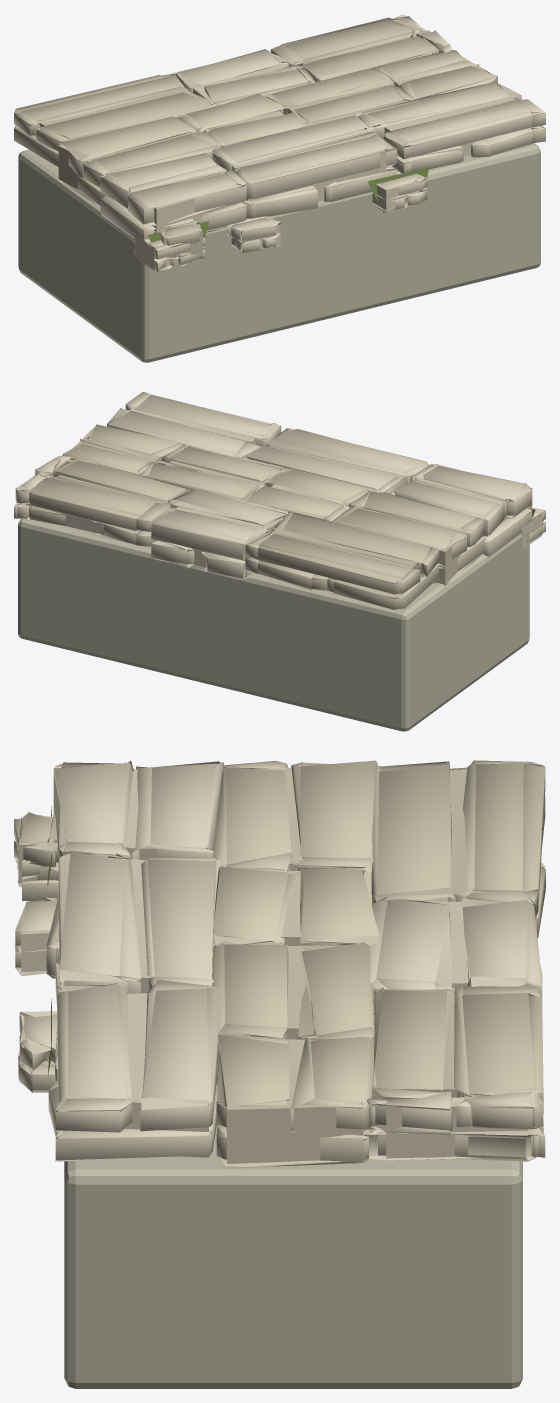
File: bridge-04.glb
3 views of the same model, one above another, from view 1: azimuth 30°, elevation 25°; view 2: azimuth 150°, elevation 25°; view 3: azimuth 270°, elevation 25° (orthographic). The views are drawn at different scales.
Parts seen in each view (by area): view 1: Continuous arch foundation.003, CC0 worn paving.026, CC0 worn paving.027, CC0 worn paving.025, CC0 worn paving.032, CC0 worn paving.028, CC0 worn paving.034, CC0 worn paving.030, CC0 worn paving.033, CC0 worn paving.029, CC0 worn paving.031, CC0 worn paving.036 (+4 smaller); view 2: Continuous arch foundation.003, CC0 worn paving.032, CC0 worn paving.034, CC0 worn paving.033, CC0 worn paving.028, CC0 worn paving.025, CC0 worn paving.026, CC0 worn paving.027, CC0 worn paving.030, CC0 worn paving.029, CC0 worn paving.031, CC0 worn paving.035 (+1 smaller); view 3: Continuous arch foundation.003, CC0 worn paving.027, CC0 worn paving.032, CC0 worn paving.026, CC0 worn paving.031, CC0 worn paving.034, CC0 worn paving.028, CC0 worn paving.025, CC0 worn paving.033, CC0 worn paving.030, CC0 worn paving.029, CC0 worn paving.035 (+4 smaller).
Part boxes in pixels (x1,y1,x2,y2): Continuous arch foundation.003: (18, 143, 540, 362); CC0 worn paving.026: (212, 115, 397, 218); CC0 worn paving.027: (359, 82, 545, 173); CC0 worn paving.025: (100, 153, 246, 242); CC0 worn paving.032: (14, 73, 219, 167); CC0 worn paving.028: (58, 116, 221, 206); CC0 worn paving.034: (270, 17, 438, 81); CC0 worn paving.030: (265, 68, 417, 124); CC0 worn paving.033: (175, 49, 315, 105); CC0 worn paving.029: (178, 92, 311, 147); CC0 worn paving.031: (374, 50, 497, 101); CC0 worn paving.036: (372, 170, 427, 212); Continuous arch foundation.003: (18, 519, 529, 731); CC0 worn paving.032: (245, 512, 439, 609); CC0 worn paving.034: (30, 459, 189, 547); CC0 worn paving.033: (151, 488, 288, 580); CC0 worn paving.028: (331, 491, 485, 586); CC0 worn paving.025: (391, 464, 532, 556); CC0 worn paving.026: (239, 428, 430, 493); CC0 worn paving.027: (107, 391, 281, 459); CC0 worn paving.030: (139, 444, 284, 500); CC0 worn paving.029: (241, 468, 370, 521); CC0 worn paving.031: (62, 424, 183, 474); CC0 worn paving.035: (14, 455, 71, 520); Continuous arch foundation.003: (64, 1125, 522, 1388); CC0 worn paving.027: (48, 980, 219, 1161); CC0 worn paving.032: (370, 760, 545, 939); CC0 worn paving.026: (46, 850, 221, 1008); CC0 worn paving.031: (216, 1033, 374, 1168); CC0 worn paving.034: (372, 986, 543, 1133); CC0 worn paving.028: (213, 760, 379, 875); CC0 worn paving.025: (47, 761, 223, 871); CC0 worn paving.033: (367, 897, 542, 1014); CC0 worn paving.030: (212, 941, 374, 1081); CC0 worn paving.029: (213, 865, 379, 946); CC0 worn paving.035: (364, 1090, 545, 1161).
Size of the model in its own units: 4 by 1.53 by 2.57.
